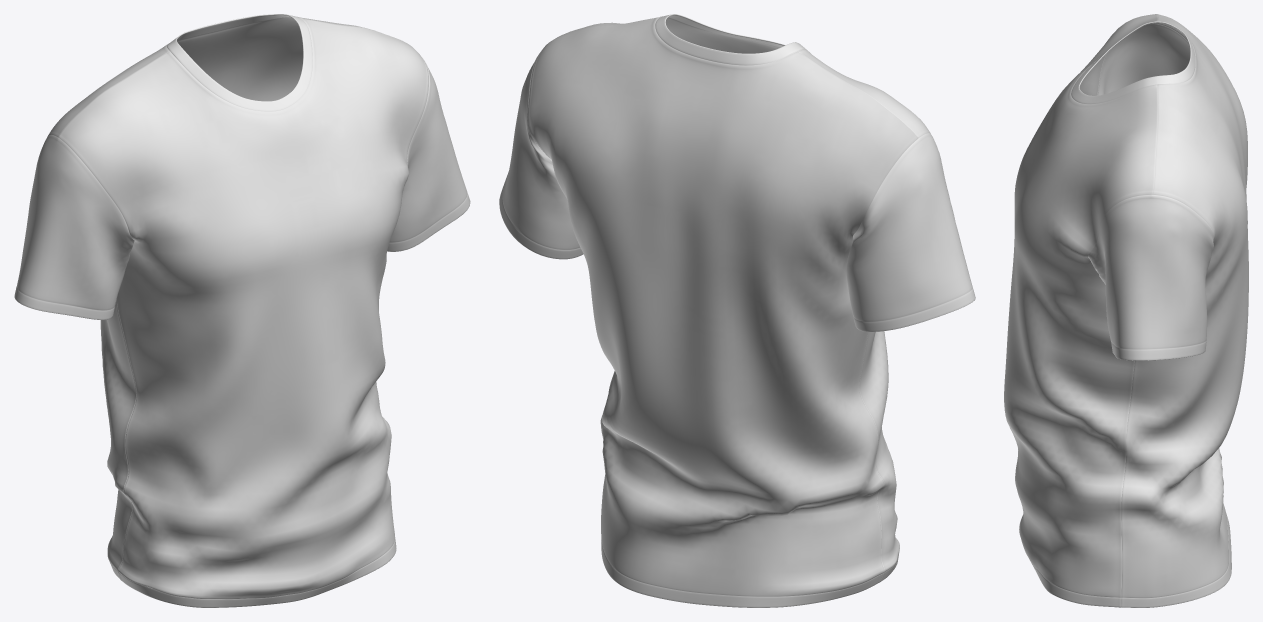
3 views of the same model, side by side, from view 1: azimuth 30°, elevation 25°; view 2: azimuth 150°, elevation 25°; view 3: azimuth 270°, elevation 25° (orthographic). The views are drawn at different scales.
Visible parts, largest first — view 1: T_Shirt; view 2: T_Shirt; view 3: T_Shirt.
Part boxes in pixels (x1,y1,x2,y2): T_Shirt: (14,14,470,607); T_Shirt: (499,14,975,607); T_Shirt: (1004,14,1248,607).
Bounding box in the file's own units: 55.05 × 61.31 × 26.91.
1 material, 1 textured.
